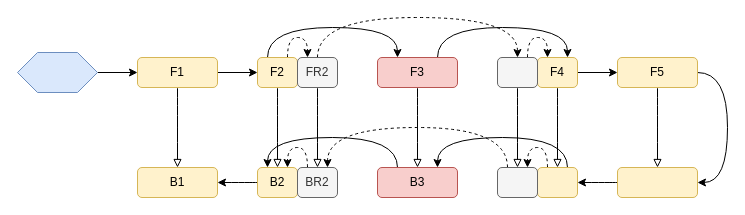
Image size: 745x215. Some labels were removed from this diagram. Here are the shapes that lost their labels. From the top down, the centre of each, then its label:
At point 57,72: "Input".
At point 517,72: "FR4".
At point 517,182: "BR4".
At point 557,182: "B4".
At point 657,182: "B5".
